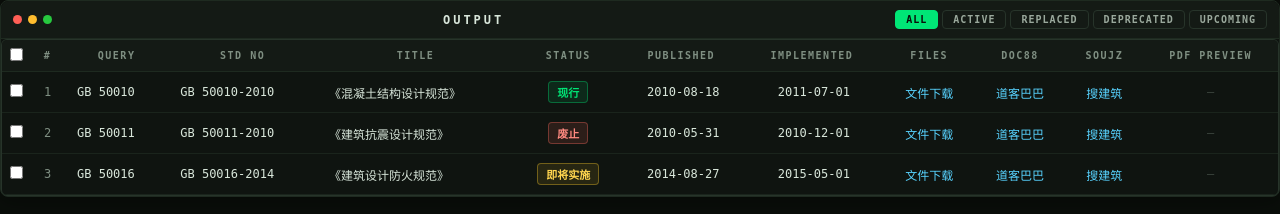
Test: resultsTable › sorts by publish date ascending and descending
What coordinates should you click on to do the following:
click the column heading "PUBLISHED"
I would click on:
 (683, 56)
Its box is [622, 40, 744, 72].
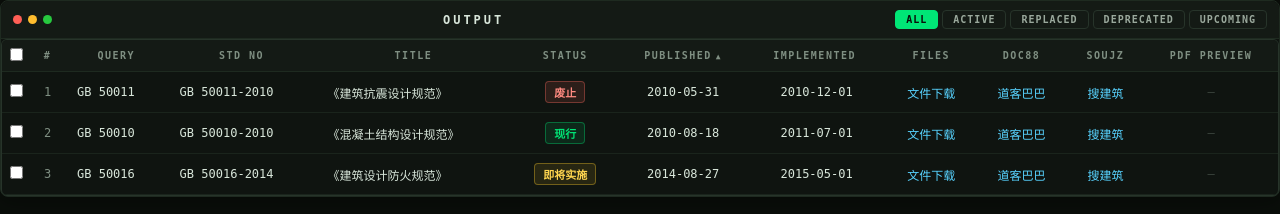
Expected: the row that starts with "GB 50011" shows "GB 50011-2010", [180, 85, 274, 99]
What coordinates should you click on to do the following:
click the column heading "PUBLISHED▲"
I would click on:
 (683, 56)
Its box is [619, 40, 747, 72].
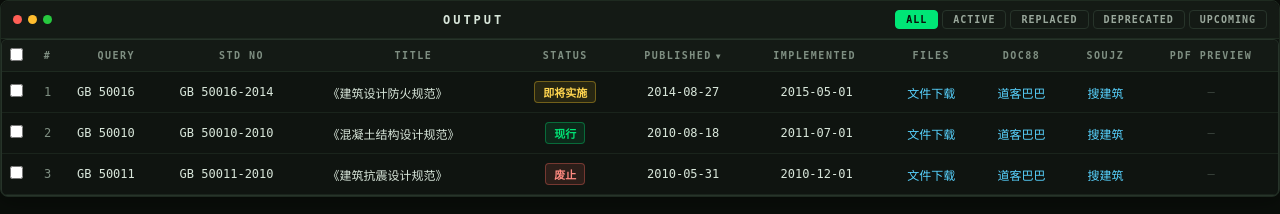
Expected: the row that starts with "GB 50016" shows "GB 50016-2014", [180, 85, 274, 99]
